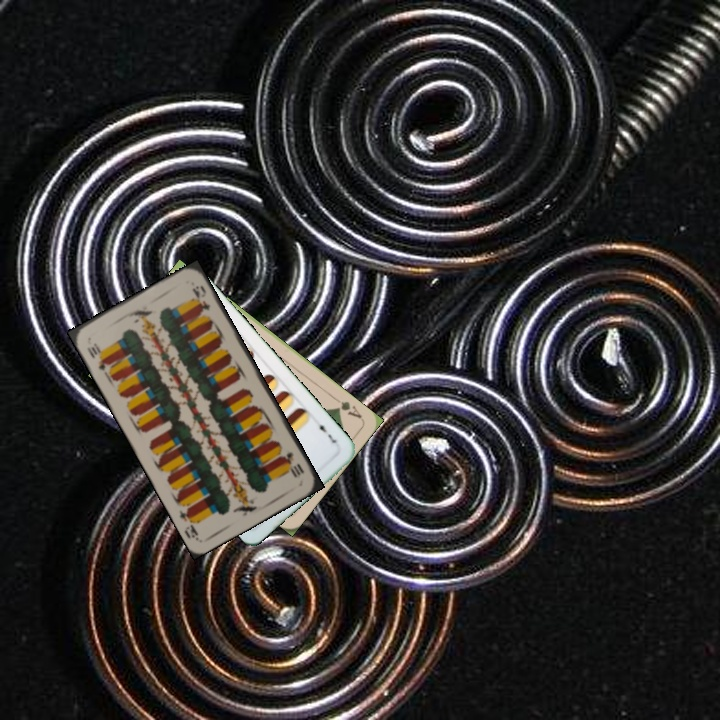E10: (276, 446, 307, 480), (83, 339, 111, 374)
E7: (313, 417, 339, 446)
GA: (329, 393, 365, 421)
